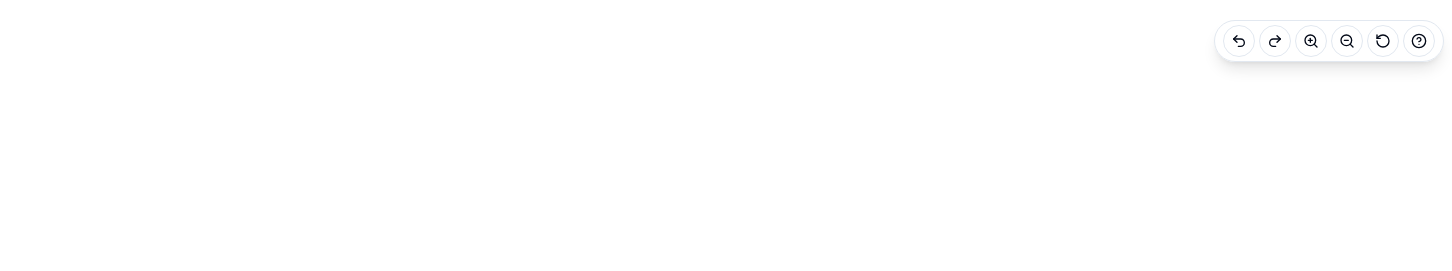
it: canvas help in the zoom controls › hides the tips on an enemy tab and can open the full help dialog
The image size is (1452, 271).
Step 1. Click the button named "Show canvas help" → x=1419, y=41, box x1=1403 y1=25 x2=1435 y2=57
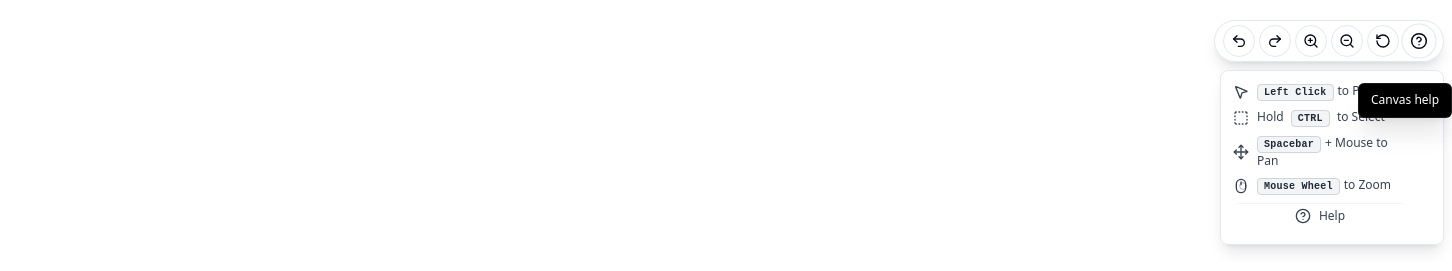
Step 2. Click the button "Help" → x=1320, y=218, box x1=1233 y1=203 x2=1407 y2=232
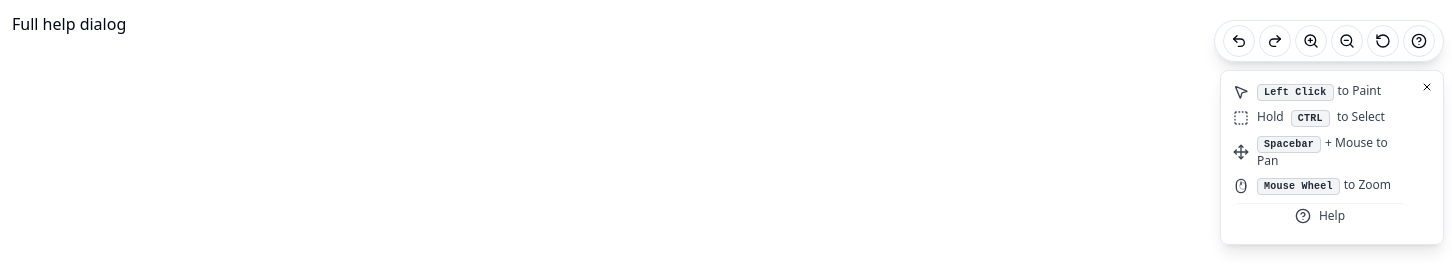
Now the text "Full help dialog" is shown, box x1=12 y1=13 x2=126 y2=35
